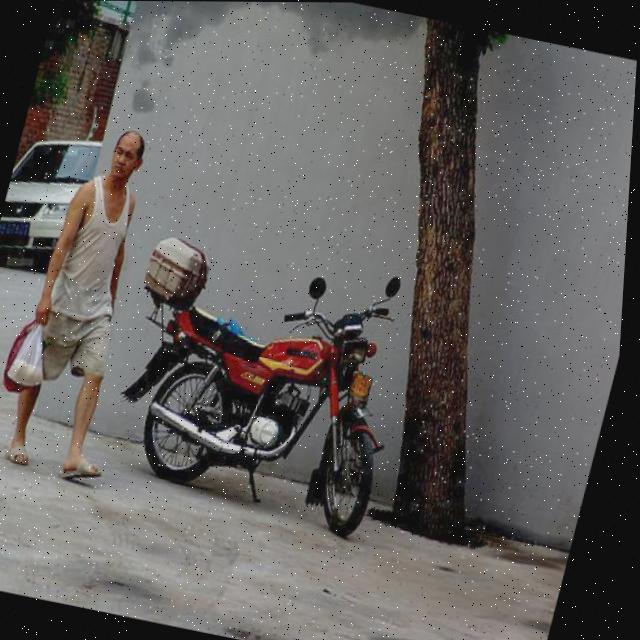car: (0, 123, 108, 285)
motorcycle: (85, 220, 435, 547)
